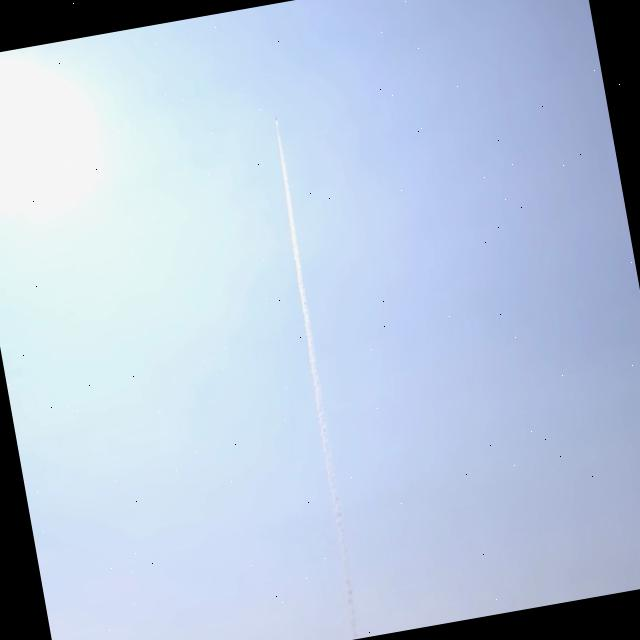smoke_trail_with_rocket: (274, 118, 359, 639)
